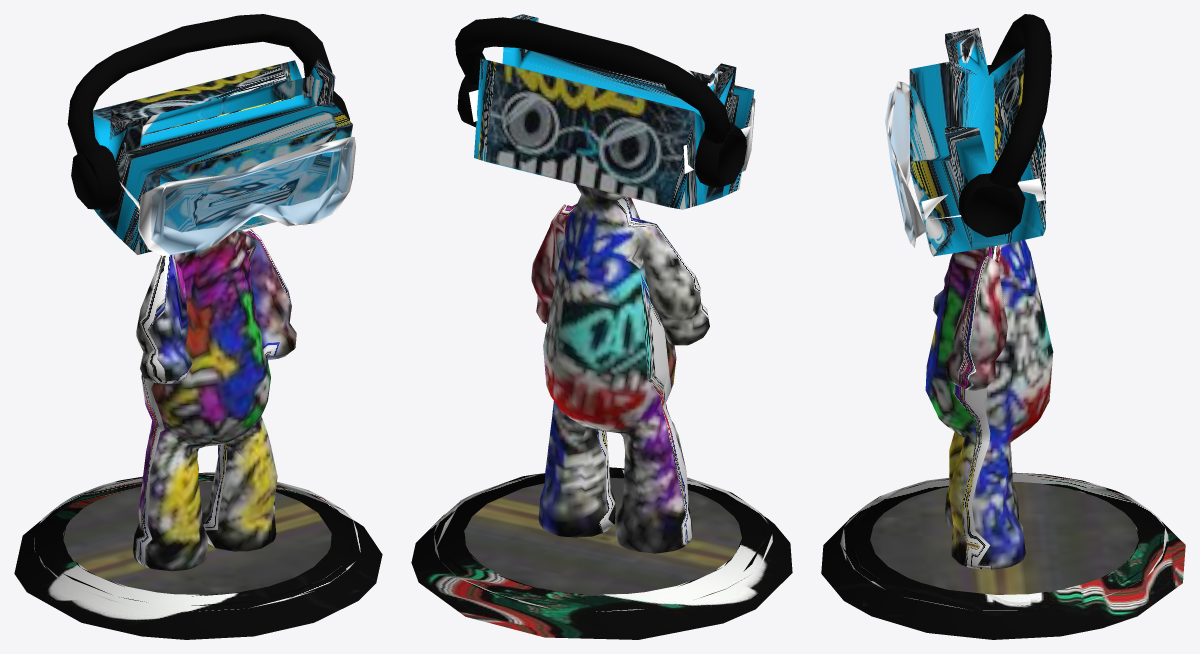
The picture shows the model from 3 angles, left to right: view 1: azimuth 30°, elevation 25°; view 2: azimuth 150°, elevation 25°; view 3: azimuth 270°, elevation 25°; orthographic projection. The views are drawn at different scales.
Size of the model in its own units: 1.44 by 2.24 by 1.42.
Materials: 8 (4 with a texture image).
